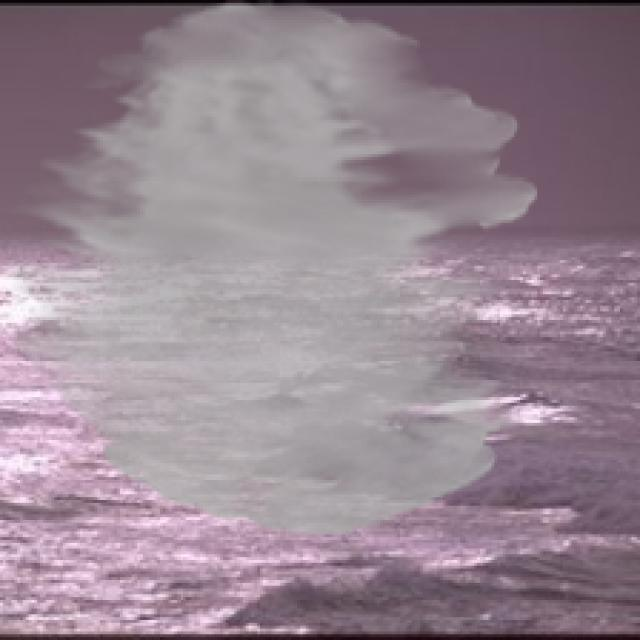Smoke: (5, 0, 538, 535)
